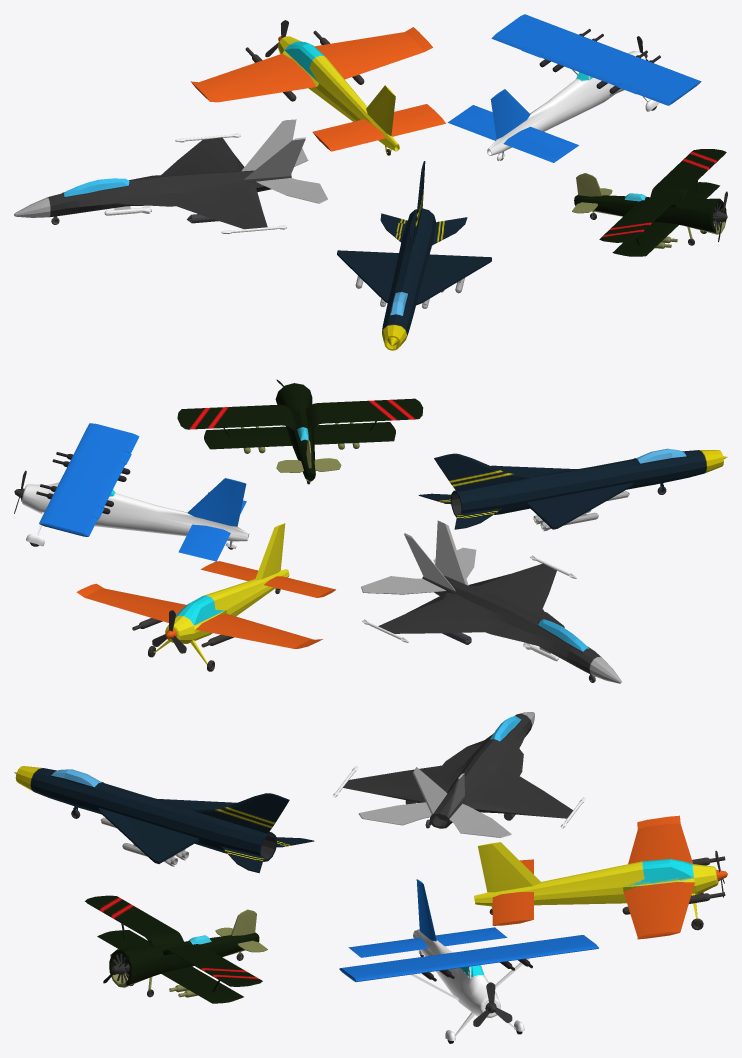
Rendered from fighter-jets-ikram.glb.
3 renders of one model, top to bottom at view 1: azimuth 30°, elevation 25°; view 2: azimuth 150°, elevation 25°; view 3: azimuth 270°, elevation 25°, orthographic. The views are drawn at different scales.
Parts seen in each view (by area): view 1: FighterJet1_4, Plane2_1, Plane1_0, FighterJet2_3, Plane3_2; view 2: FighterJet1_4, Plane2_1, FighterJet2_3, Plane3_2, Plane1_0; view 3: Plane1_0, FighterJet2_3, FighterJet1_4, Plane3_2, Plane2_1, Motor_2.
Part boxes in pixels (<box>): FighterJet1_4: <box>14,119,327,234</box>; Plane2_1: <box>447,14,701,162</box>; Plane1_0: <box>190,27,445,155</box>; FighterJet2_3: <box>337,161,491,350</box>; Plane3_2: <box>572,149,726,256</box>; FighterJet1_4: <box>361,520,621,683</box>; Plane2_1: <box>22,423,249,561</box>; FighterJet2_3: <box>418,448,727,531</box>; Plane3_2: <box>177,383,423,484</box>; Plane1_0: <box>76,523,335,671</box>; Plane1_0: <box>474,815,725,939</box>; FighterJet2_3: <box>14,766,314,873</box>; FighterJet1_4: <box>333,712,585,837</box>; Plane3_2: <box>85,895,267,1003</box>; Plane2_1: <box>339,879,598,1043</box>; Motor_2: <box>473,982,512,1026</box>.
Size of the model in its own units: 19.56 by 2.39 by 18.22.
Materials: 1 (1 with a texture image).
